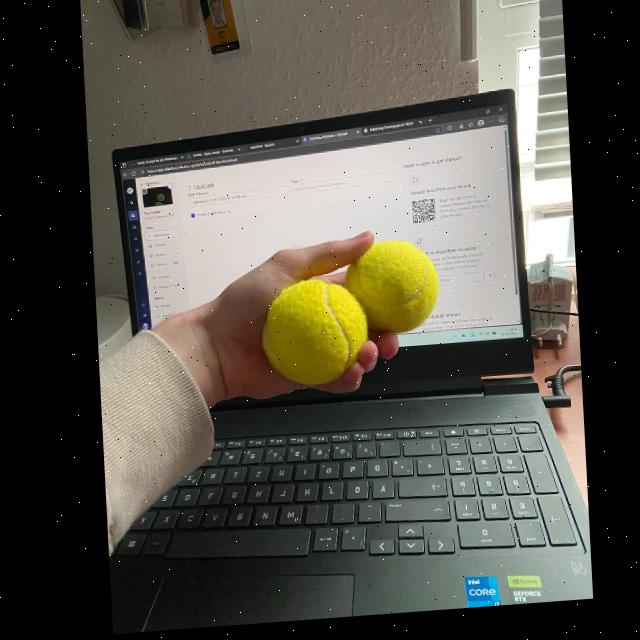Tennisball: (263, 279, 368, 386), (345, 241, 439, 333)
